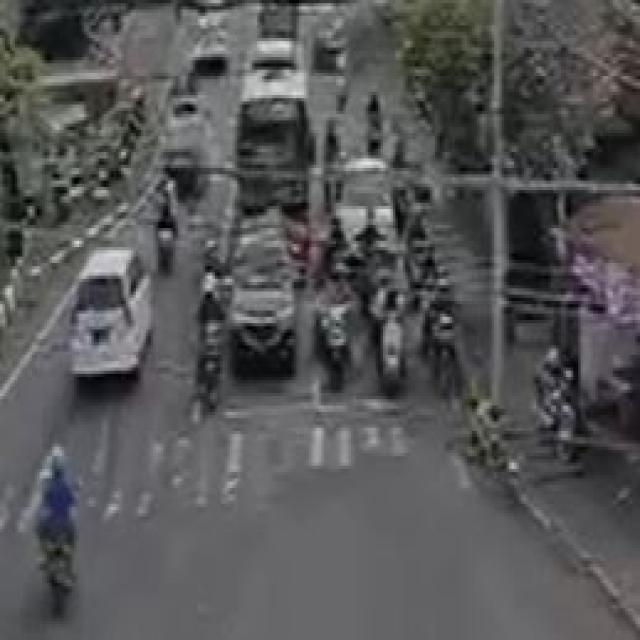bus: (241, 40, 312, 293)
car: (60, 245, 164, 417), (239, 220, 300, 382)
motorbike: (32, 448, 80, 636), (185, 280, 235, 429), (143, 170, 189, 273), (376, 274, 407, 408), (429, 289, 458, 395), (321, 280, 347, 392)
